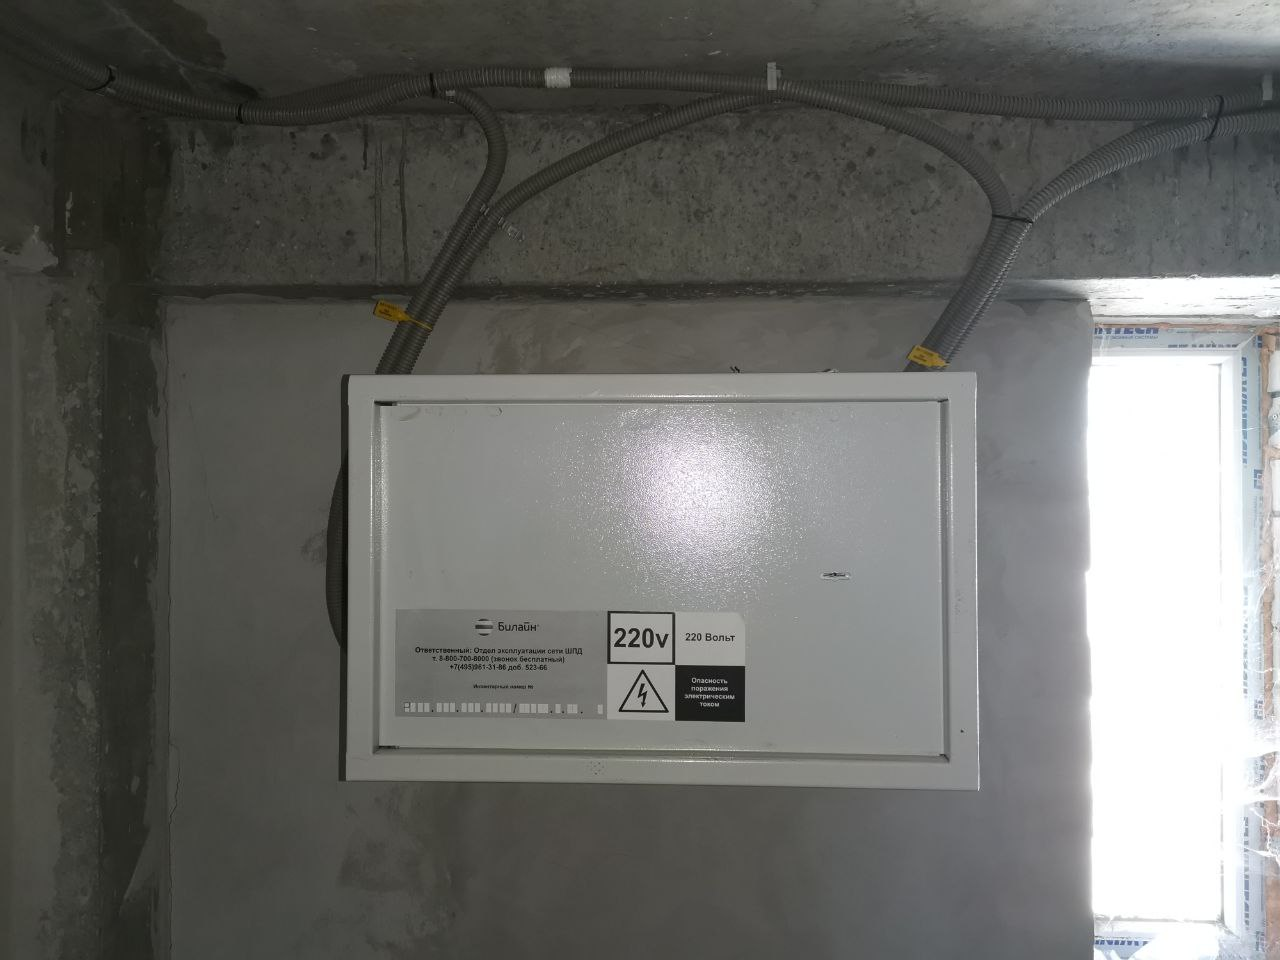shta-7m: (333, 364, 988, 799)
